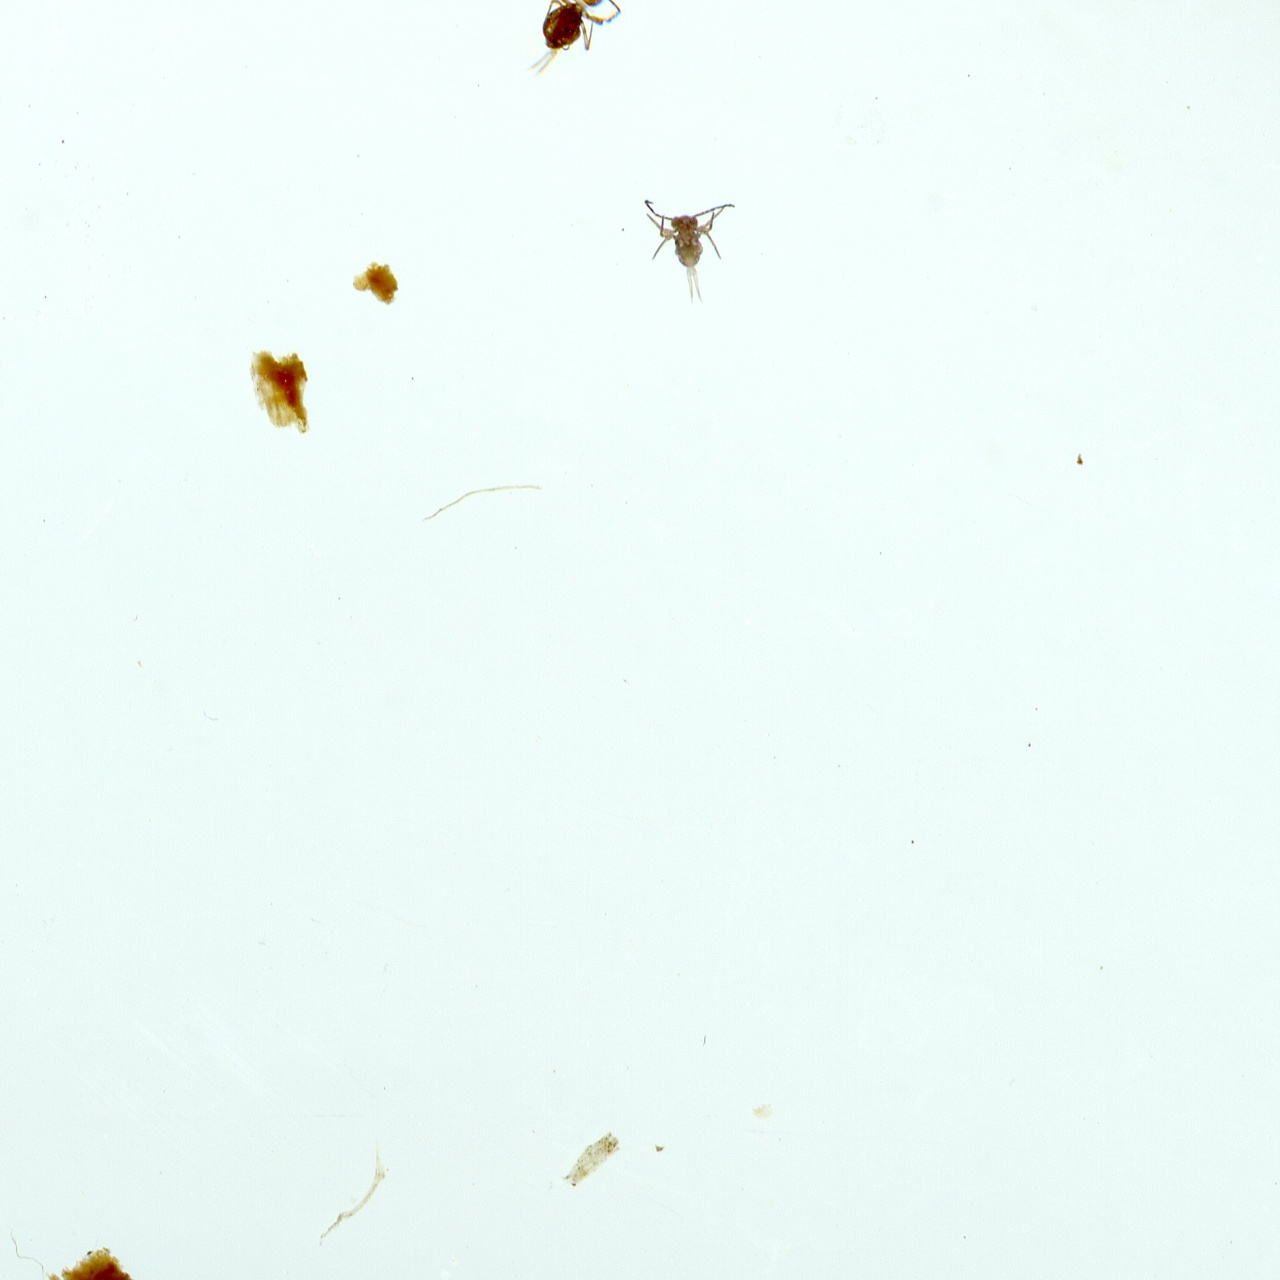arthropod: (490, 0, 637, 111), (633, 195, 745, 308)
